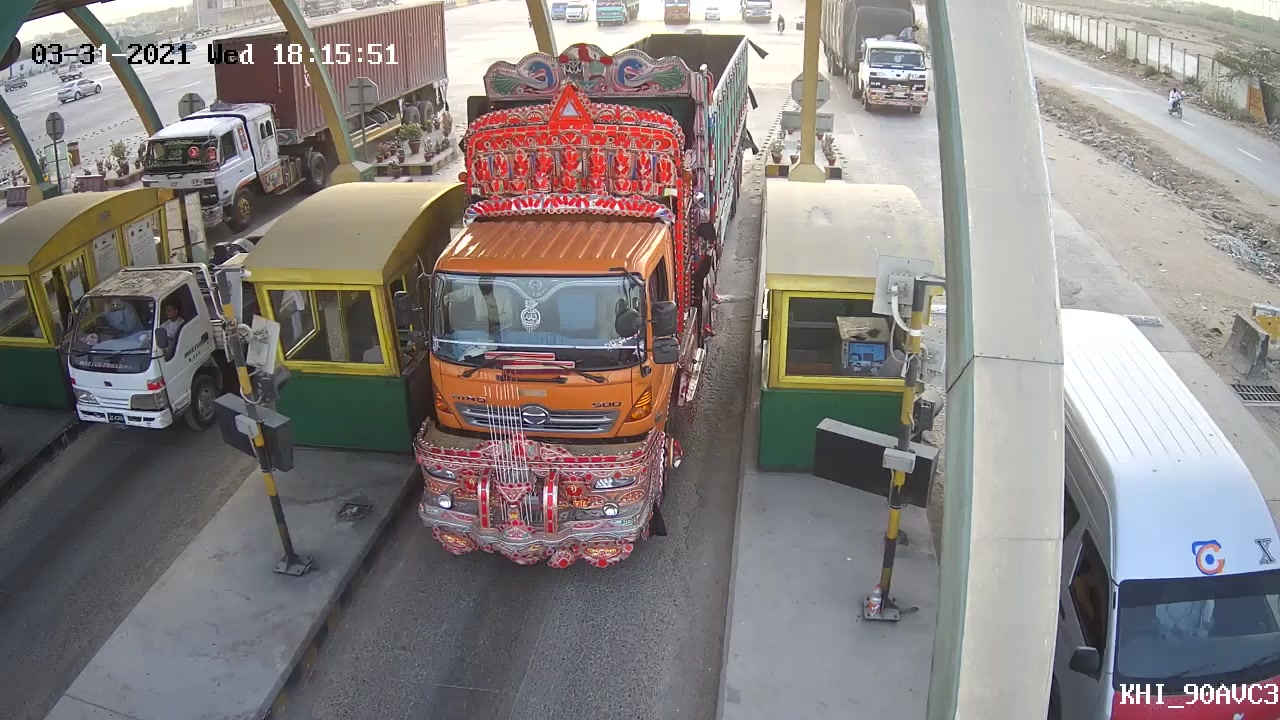F5: (400, 30, 758, 575)
